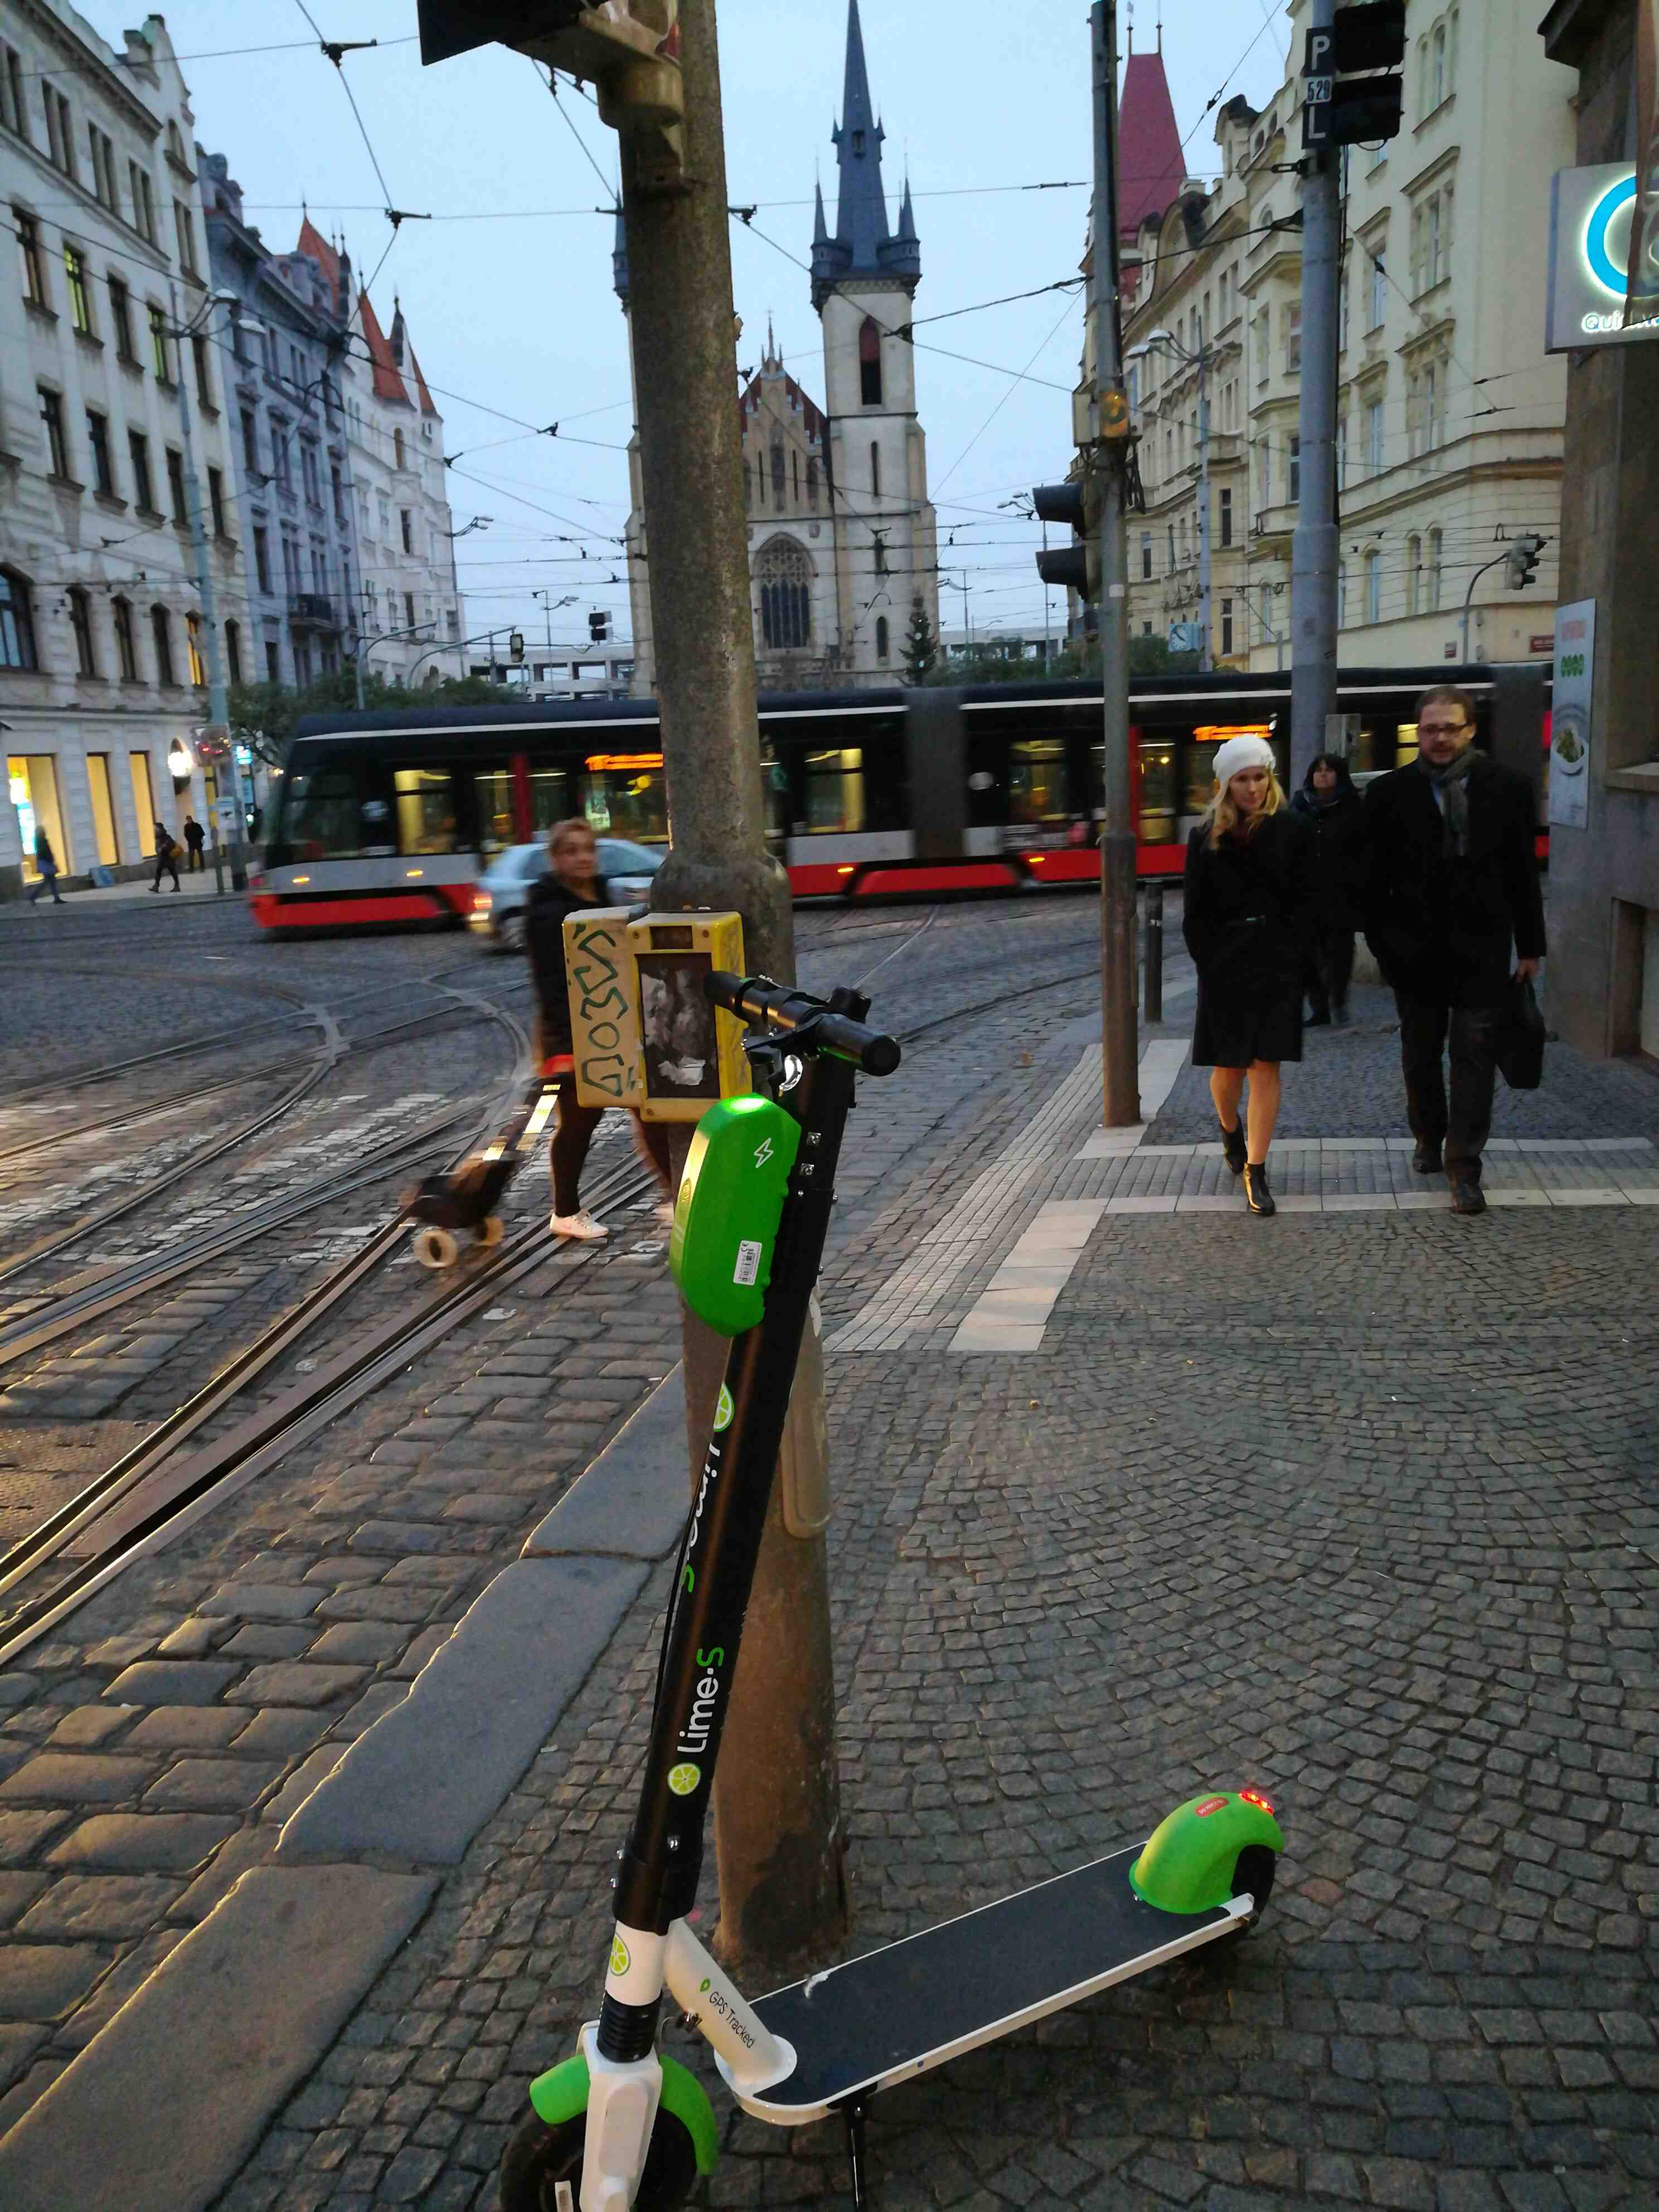scooter: (479, 944, 1300, 2189)
